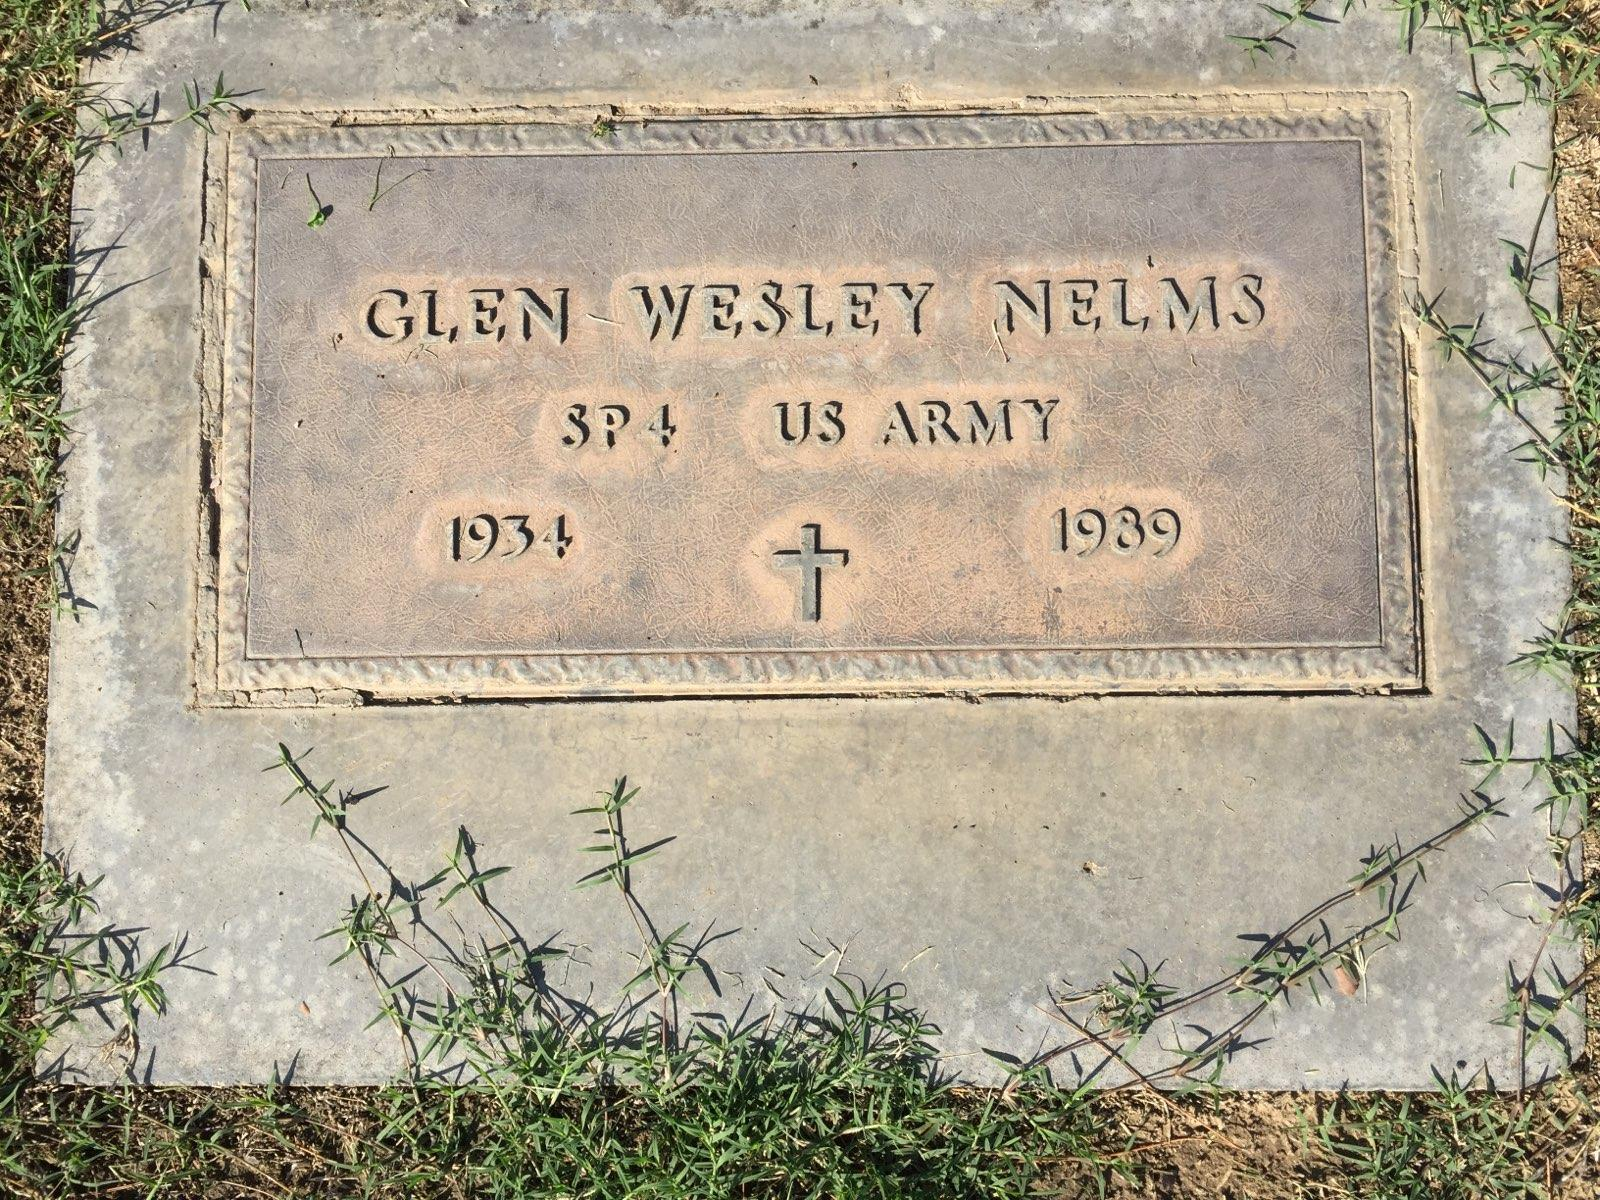flat: (35, 15, 1592, 1116)
